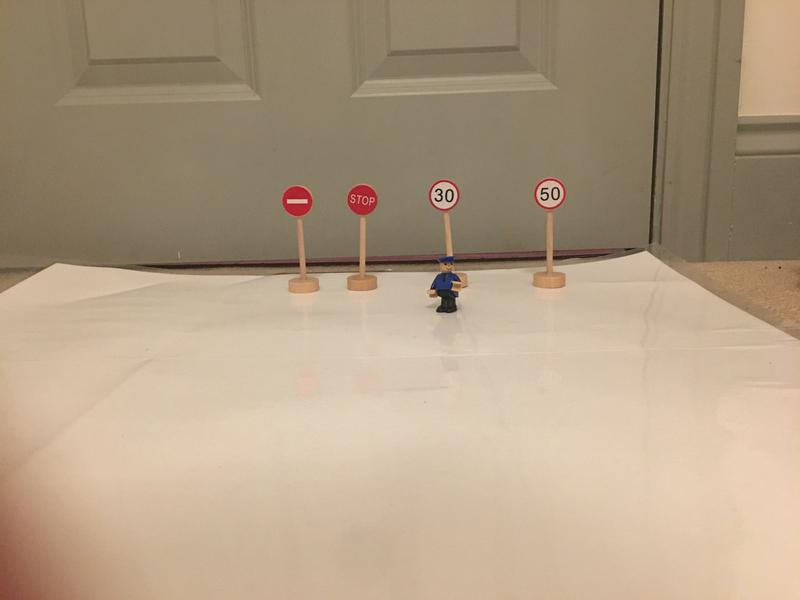Traffic_Sign_30: (430, 180, 459, 211)
Traffic_Sign_50: (535, 179, 566, 208)
Traffic_Sign_No_Entry: (283, 186, 312, 217)
Traffic_Sign_Stop: (348, 184, 378, 215)
person: (427, 256, 464, 314)
